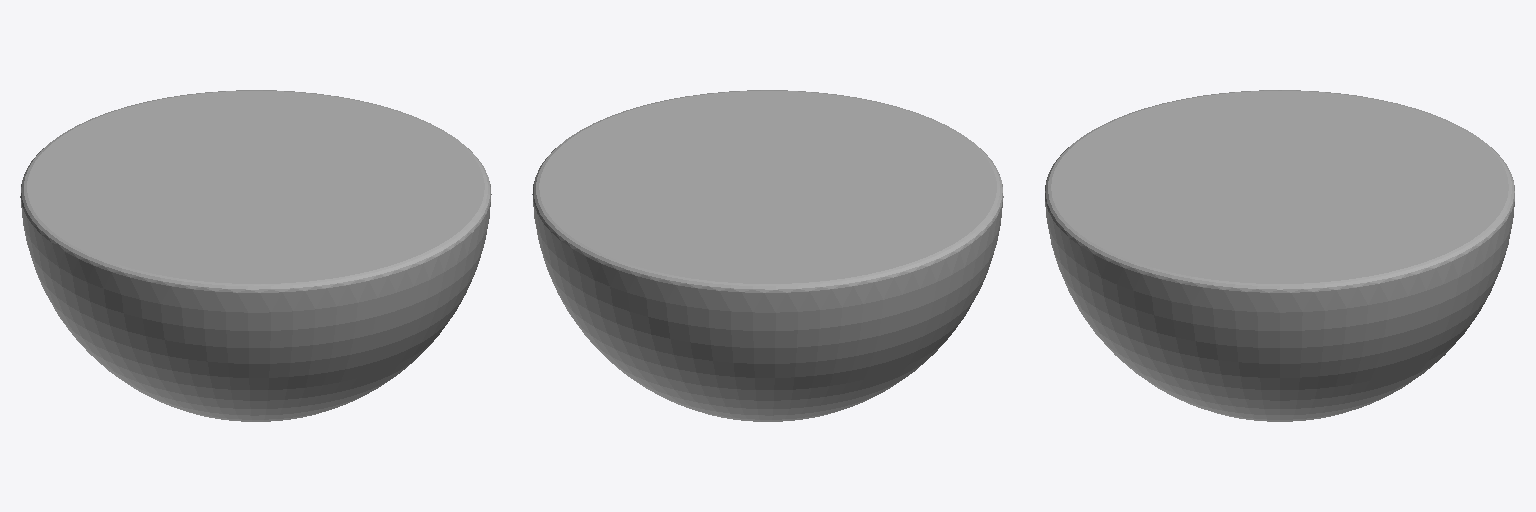
URDF robot description (Globo_GG):
<?xml version="1.0" encoding="utf-8"?>
<!-- =================================================================================== -->
<!-- |    This document was autogenerated by xacro from Globo_GG.xacro                 | -->
<!-- |    EDITING THIS FILE BY HAND IS NOT RECOMMENDED                                 | -->
<!-- =================================================================================== -->
<robot name="Globo_GG">
  <material name="silver">
    <color rgba="0.700 0.700 0.700 1.000"/>
  </material>
  <gazebo>
    <plugin filename="libgazebo_ros_control.so" name="control"/>
  </gazebo>
  <gazebo reference="base_link">
    <material>Gazebo/Silver</material>
    <mu1>0.2</mu1>
    <mu2>0.2</mu2>
    <selfCollide>true</selfCollide>
    <gravity>true</gravity>
  </gazebo>
  <link name="base_link">
    <inertial>
      <origin rpy="0 0 0" xyz="-6.235189367571009e-18 -6.235189367571009e-18 -0.07315904030021088"/>
      <mass value="0.7156492156888147"/>
      <inertia ixx="0.00023" ixy="-0.0" ixz="-0.0" iyy="0.00023" iyz="-0.0" izz="0.000355"/>
    </inertial>
    <visual>
      <origin rpy="0 0 0" xyz="0 0 0"/>
      <geometry>
        <mesh filename="package://Globo_GG_description/meshes/base_link.stl" scale="0.001 0.001 0.001"/>
      </geometry>
      <material name="silver"/>
    </visual>
    <collision>
      <origin rpy="0 0 0" xyz="0 0 0"/>
      <geometry>
        <mesh filename="package://Globo_GG_description/meshes/base_link.stl" scale="0.001 0.001 0.001"/>
      </geometry>
    </collision>
  </link>
</robot>

--- Render facts (derived) ---
3 views of the same robot in one strip: view 1: azimuth 30°, elevation 25°; view 2: azimuth 150°, elevation 25°; view 3: azimuth 270°, elevation 25° (orthographic).
Robot: Globo_GG — 1 links, 0 joints (none); root link base_link; default pose: every joint at zero.
Visible links, largest first — view 1: base_link; view 2: base_link; view 3: base_link.
Link boxes in pixels (x1,y1,x2,y2): base_link: (20,90,491,421); base_link: (532,90,1003,421); base_link: (1045,90,1514,421).
Bounding box of the posed robot: 0.0704 × 0.0704 × 0.035 m (x, y, z).
Meshes: 1 distinct files referenced, 1 mesh visuals loaded (1 binary STL).